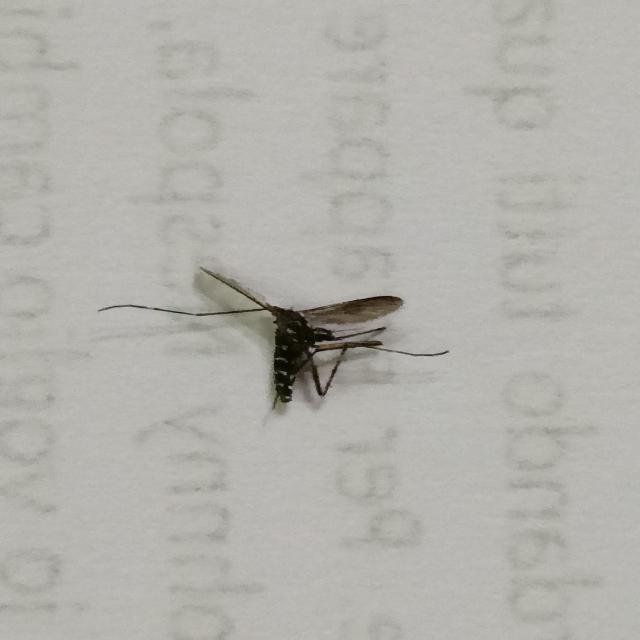albopictus: (106, 255, 445, 418)
